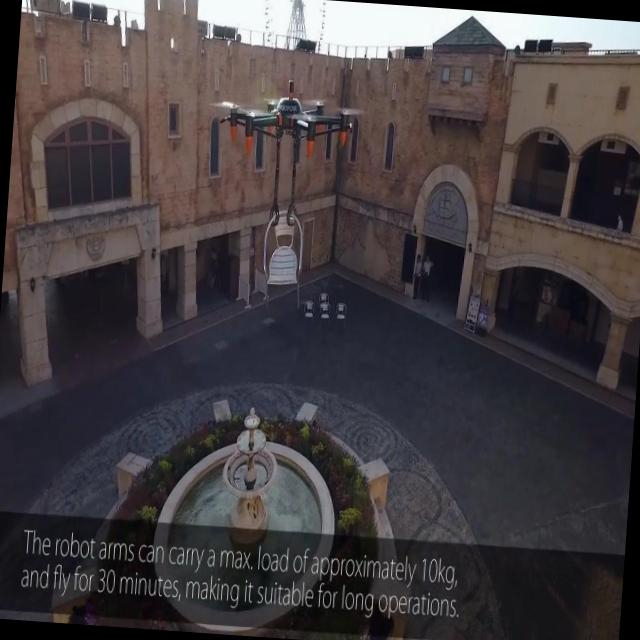drone: (207, 72, 370, 170)
